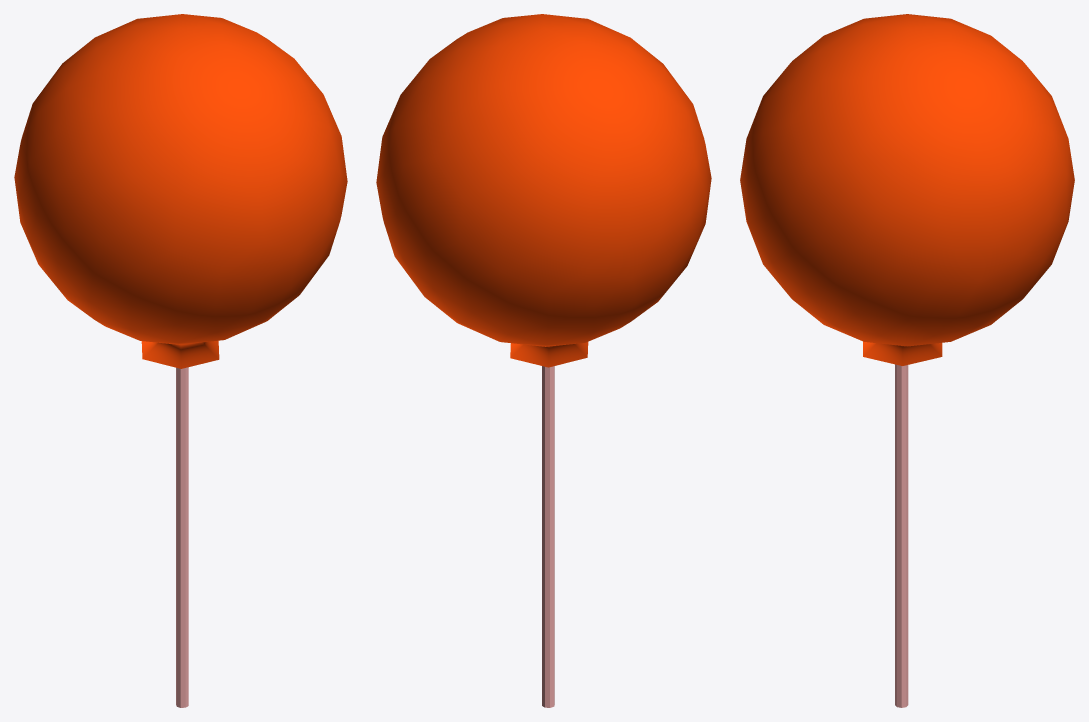
File: sharik_red 1.fbx
The picture shows the model from 3 angles, left to right: view 1: azimuth 30°, elevation 25°; view 2: azimuth 150°, elevation 25°; view 3: azimuth 270°, elevation 25°; orthographic projection.
Parts seen in each view (by area): view 1: sharik_red_1, Cylinder, Cone; view 2: sharik_red_1, Cylinder, Cone; view 3: sharik_red_1, Cylinder, Cone.
Boxes of the visible parts, x1,y1,x2,y2 form: sharik_red_1: [14, 14, 347, 344]; Cylinder: [176, 367, 188, 707]; Cone: [141, 340, 219, 368]; sharik_red_1: [376, 14, 711, 346]; Cylinder: [542, 366, 554, 707]; Cone: [510, 342, 588, 367]; sharik_red_1: [740, 14, 1074, 346]; Cylinder: [895, 364, 908, 707]; Cone: [863, 341, 942, 365].
Bounding box in the file's own units: 100 × 223 × 100.
